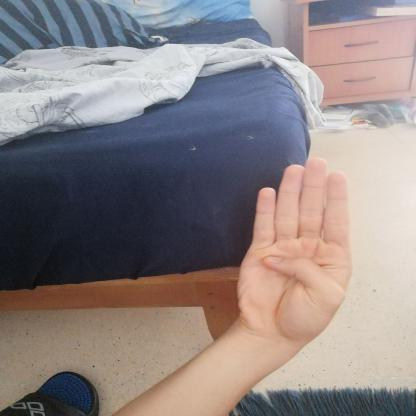KAAF: (223, 149, 368, 354)
